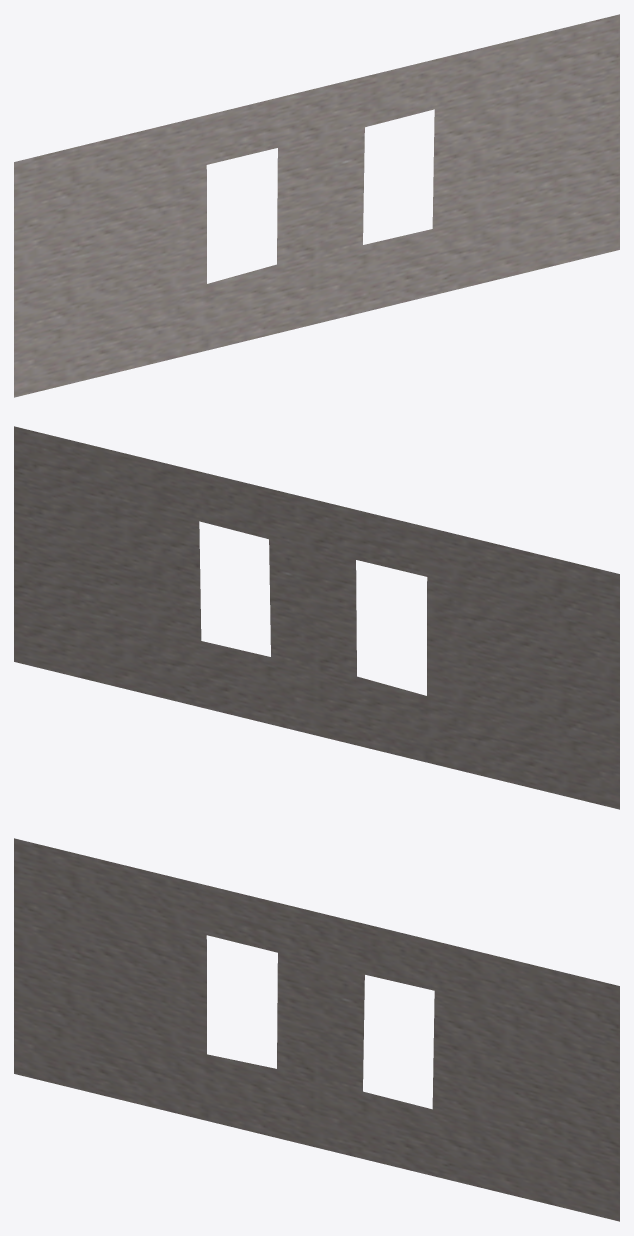
File: W_AI1_xffx_1402.glb
The picture shows the model from 3 angles, top to bottom: view 1: azimuth 30°, elevation 25°; view 2: azimuth 150°, elevation 25°; view 3: azimuth 330°, elevation 25°; orthographic projection.
Parts seen in each view (by area): view 1: polySurfaceShape808; view 2: polySurfaceShape808; view 3: polySurfaceShape808.
Part boxes in pixels (x1,y1,x2,y2): polySurfaceShape808: (14, 14, 619, 397); polySurfaceShape808: (14, 426, 619, 809); polySurfaceShape808: (14, 838, 619, 1221).
Size of the model in its own units: 0.9385 by 0.3486 by 1.52e-08.
1 material, 1 textured.
